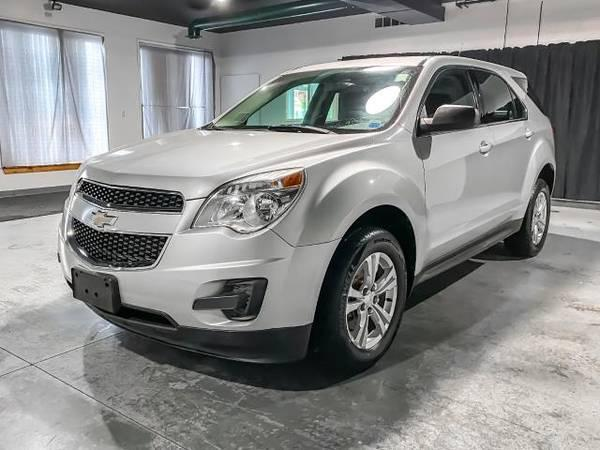Front_Bumper: (59, 228, 339, 364)
Front_Fender: (267, 127, 425, 290)
Front_Left_Door: (409, 126, 486, 277)
Front_Left_Window: (414, 67, 481, 136)
Front_Windshield: (208, 66, 426, 135)
Grille: (61, 176, 207, 276)
Hood: (80, 129, 375, 191)
Left_Headlight: (187, 166, 307, 236)
Rear_Fender: (519, 117, 555, 217)
Rear_Left_Door: (483, 119, 529, 243)
Rear_Left_Window: (468, 66, 527, 127)
Roof: (284, 54, 552, 135)
Wheel: (321, 229, 409, 365), (523, 183, 553, 252)
